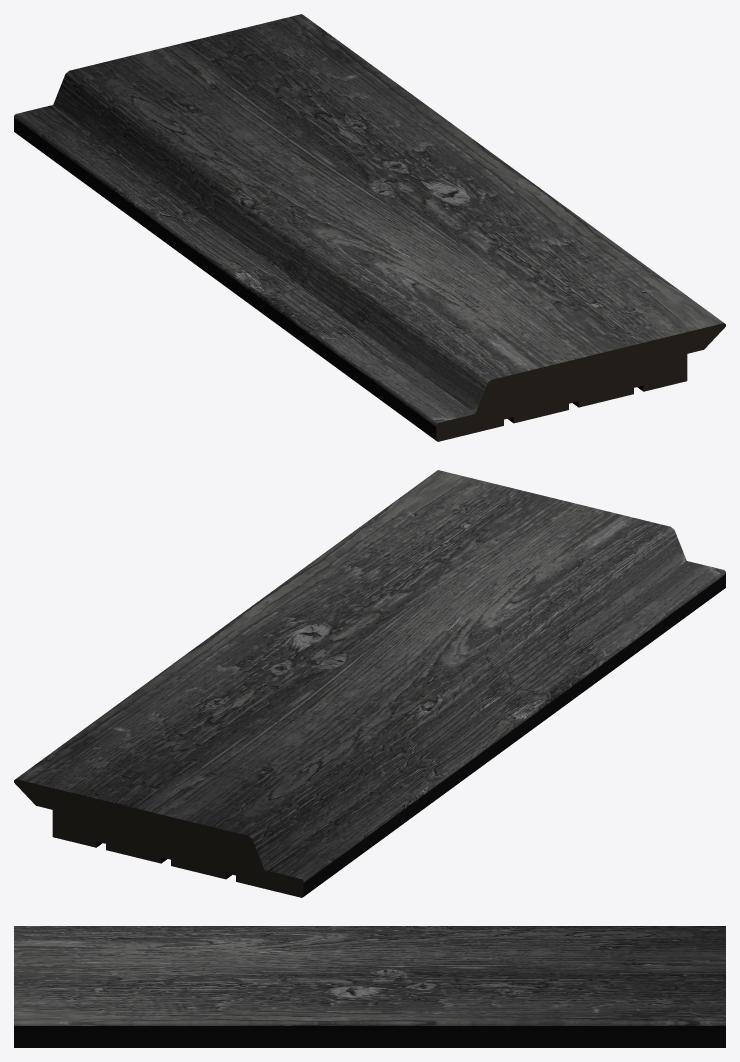
File: larch-facade-half-tongue-45-carbon-light.glb
3 renders of one model, top to bottom at view 1: azimuth 30°, elevation 25°; view 2: azimuth 150°, elevation 25°; view 3: azimuth 270°, elevation 25°, orthographic. The views are drawn at different scales.
Visible parts, largest first — view 1: Pusė_Špunto_45; view 2: Pusė_Špunto_45; view 3: Pusė_Špunto_45.
Boxes of the visible parts, x1=… form: Pusė_Špunto_45: x1=14, y1=14, x2=725, y2=441; Pusė_Špunto_45: x1=14, y1=470, x2=725, y2=897; Pusė_Špunto_45: x1=14, y1=926, x2=725, y2=1047.
Bounding box in the file's own units: 0.0723 × 0.0117 × 0.1826.
Materials: 3 (1 with a texture image).
